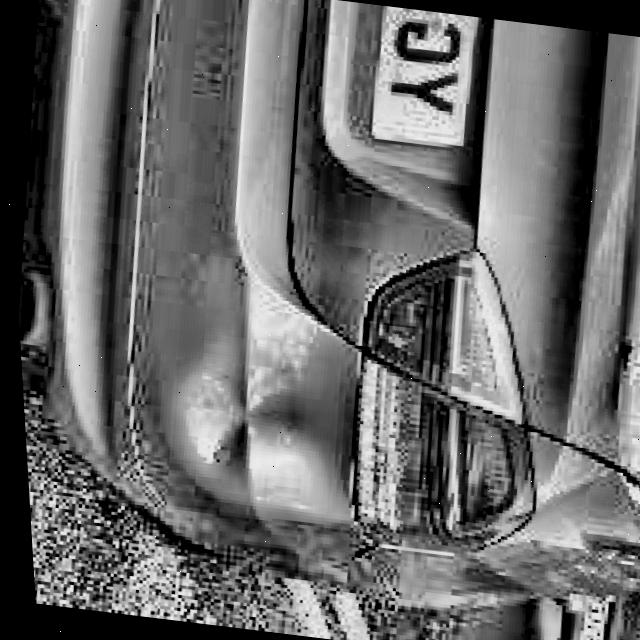bumper_dent: (156, 334, 365, 528)
